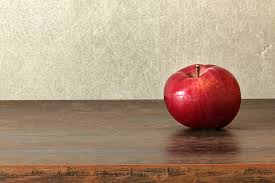apple: (163, 61, 244, 139)
